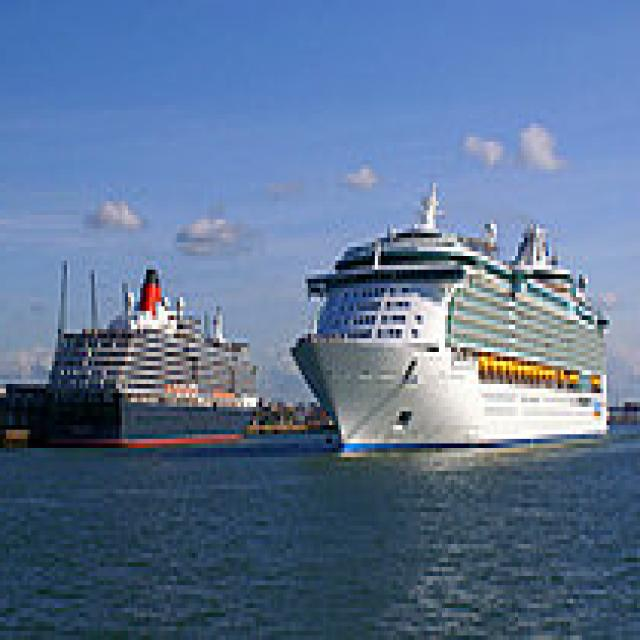Cruise: (286, 169, 618, 457), (31, 251, 268, 448)
